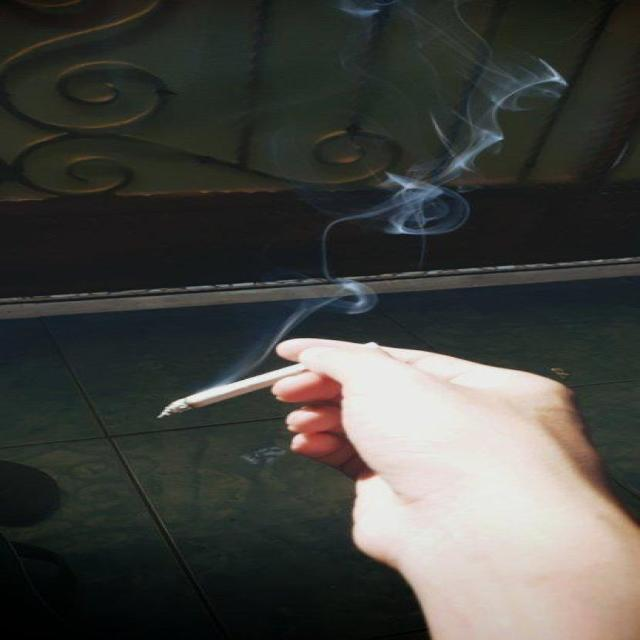rokok: (159, 346, 377, 418)
